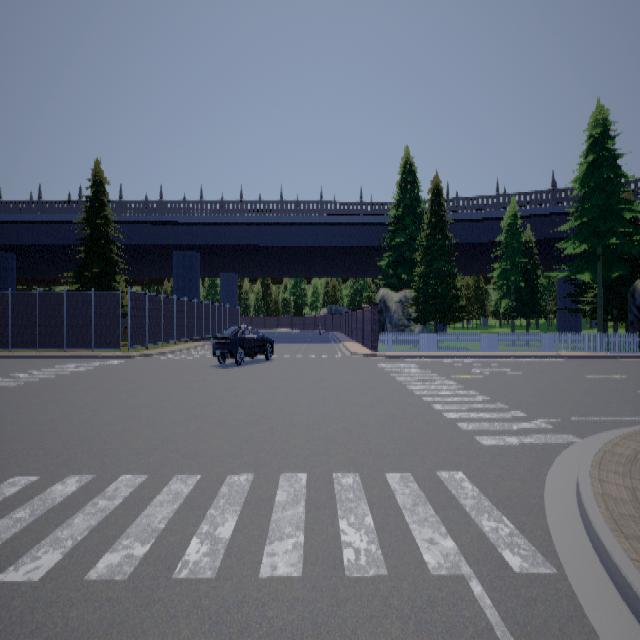vehicle: (211, 325, 273, 364)
